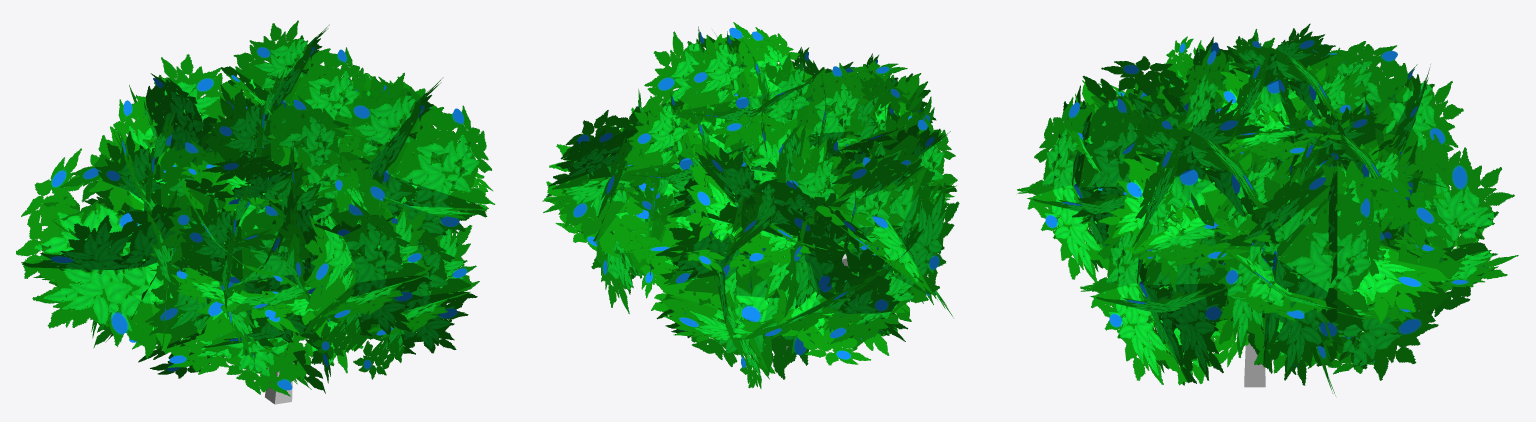
The model's file is Bush1.fbx.
3 views of the same model, side by side, from view 1: azimuth 30°, elevation 25°; view 2: azimuth 150°, elevation 25°; view 3: azimuth 270°, elevation 25° (orthographic). The views are drawn at different scales.
Parts seen in each view (by area): view 1: Plane.006; view 2: Plane.006; view 3: Plane.006, Plane.003.
Boxes of the visible parts, x1,y1,x2,y2 form: Plane.006: (16,20,495,396); Plane.006: (542,22,959,388); Plane.006: (1017,23,1518,395); Plane.003: (1244,256,1280,387).
Bounding box in the file's own units: 278 × 214 × 269.
